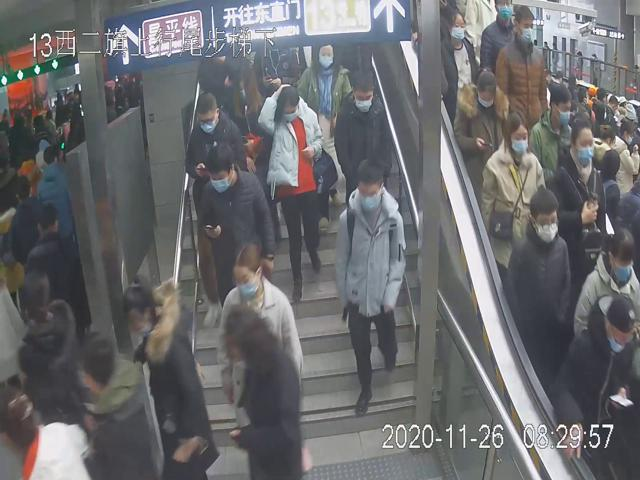person: (216, 237, 313, 471), (333, 157, 407, 417), (182, 89, 249, 323), (257, 83, 327, 302), (501, 187, 573, 370), (196, 142, 272, 307), (480, 112, 547, 274), (333, 60, 394, 211), (496, 4, 549, 130)
